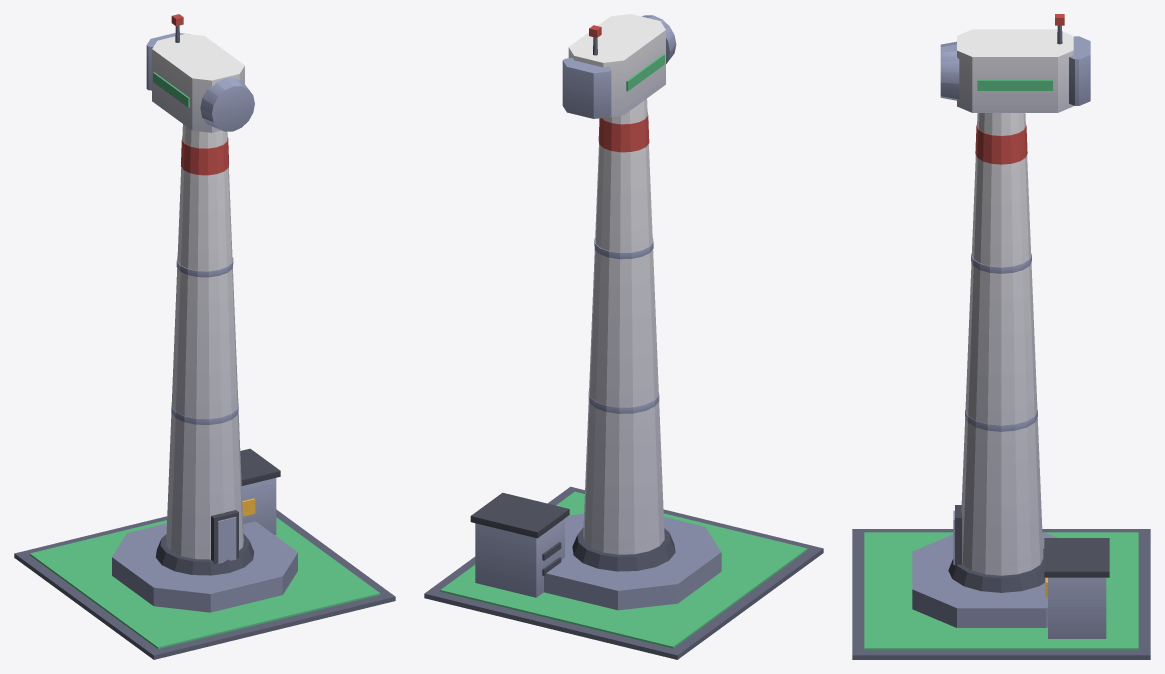
The model's file is wind_hawt_base.glb.
The picture shows the model from 3 angles, left to right: view 1: azimuth 30°, elevation 25°; view 2: azimuth 150°, elevation 25°; view 3: azimuth 270°, elevation 25°; orthographic projection. The views are drawn at different scales.
Parts seen in each view (by area): view 1: Base; view 2: Base; view 3: Base.
Boxes of the visible parts, box(x1,y1,x2,y2) form: Base: box(14, 14, 395, 659); Base: box(424, 14, 823, 659); Base: box(852, 14, 1150, 659).
Bounding box in the file's own units: 1.74 × 3.73 × 1.74.
Materials: 1 (1 with a texture image).
